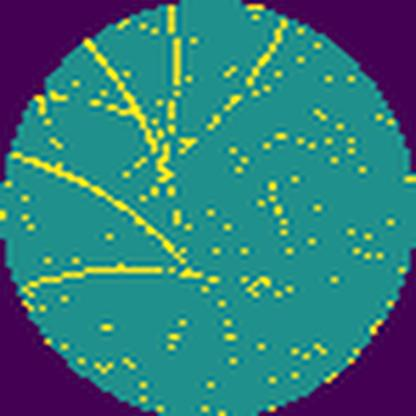Scratch: (84, 3, 290, 181), (8, 148, 212, 301)
